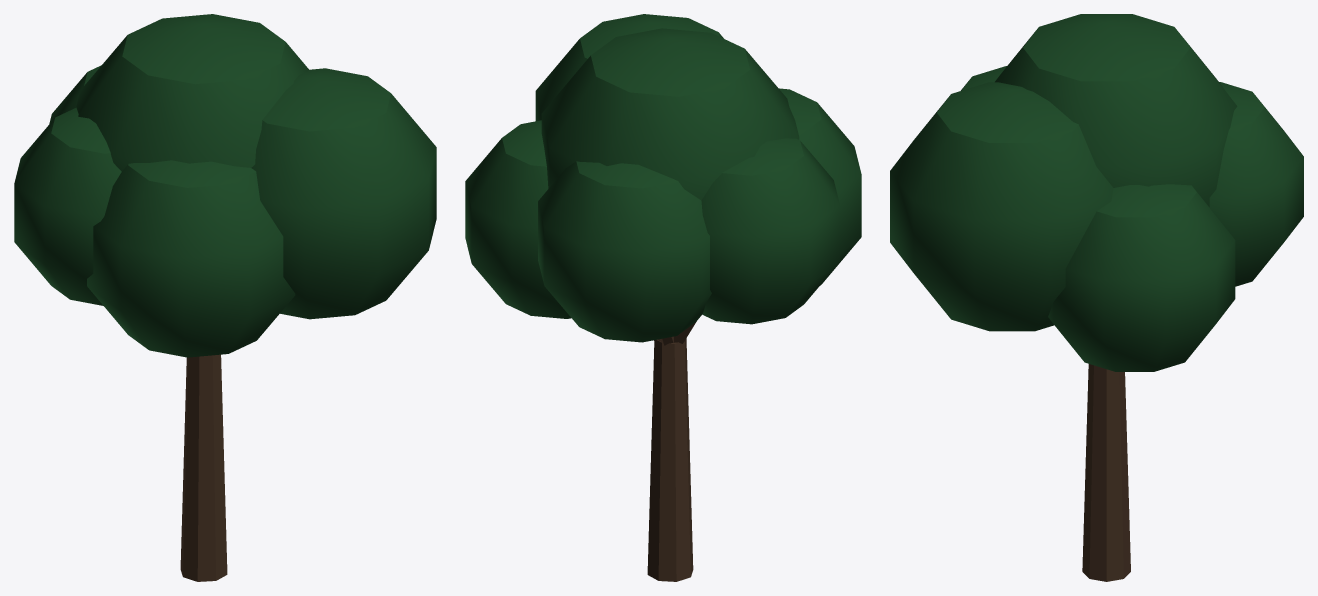
Rendered from landscape.tree.lime_small.glb.
3 views of the same model, side by side, from view 1: azimuth 30°, elevation 25°; view 2: azimuth 150°, elevation 25°; view 3: azimuth 270°, elevation 25° (orthographic). The views are drawn at different scales.
Parts seen in each view (by area): view 1: main__foliage_dark, main__bark; view 2: main__foliage_dark, main__bark; view 3: main__foliage_dark, main__bark.
Boxes of the visible parts, x1,y1,x2,y2 form: main__foliage_dark: (14, 14, 436, 357); main__bark: (180, 354, 227, 581); main__foliage_dark: (465, 14, 861, 342); main__bark: (647, 321, 696, 581); main__foliage_dark: (890, 14, 1303, 371); main__bark: (1082, 364, 1130, 581).
Bounding box in the file's own units: 3.39 × 5.1 × 3.48.
